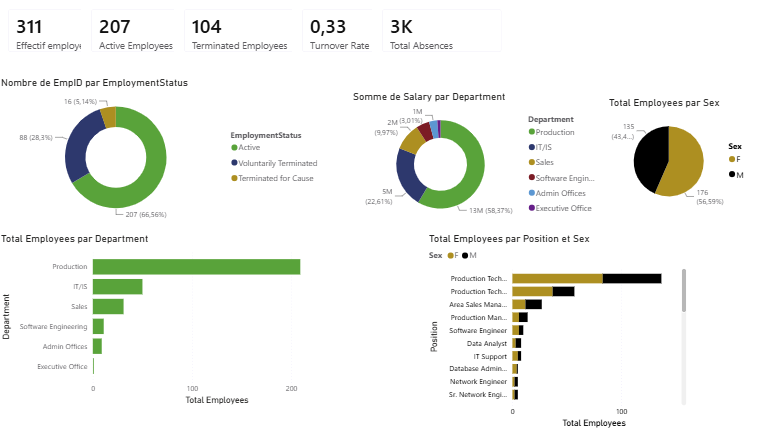

Layout of this report page (visuals, bound fields, positions):
{"tool":"powerbi","page":{"name":"Page 1","canvas":[1280,720],"ordinal":0},"visuals":[{"type":"cardVisual","fields":{"Data":["HRDataset.Effectif employe"]},"box":[0,0,185.6,105.8],"z":0},{"type":"cardVisual","fields":{"Data":["HRDataset.Active Employees"]},"box":[137.5,0,192.3,105.8],"z":1000},{"type":"cardVisual","fields":{"Data":["HRDataset.Terminated Employees"]},"box":[293.3,0,225,105.8],"z":2000},{"type":"cardVisual","fields":{"Data":["HRDataset.Turnover Rate"]},"box":[490.4,0,191.3,105.8],"z":3000},{"type":"donutChart","fields":{"Category":["HRDataset.EmploymentStatus"],"Y":["CountNonNull(HRDataset.EmpID)"]},"box":[0,128.9,546.7,252.2],"z":4000},{"type":"barChart","fields":{"Category":["HRDataset.Department"],"Y":["HRDataset.Total Employees"]},"box":[0,388.9,586.7,292.2],"z":5000},{"type":"donutChart","fields":{"Category":["HRDataset.Department"],"Y":["Sum(HRDataset.Salary)"]},"box":[586.7,152.2,426.7,228.9],"z":6000},{"type":"barChart","fields":{"Category":["HRDataset.Position"],"Y":["HRDataset.Total Employees"],"Series":["HRDataset.Sex"]},"box":[713.3,388.9,438.9,331.1],"z":7000},{"type":"pieChart","fields":{"Category":["HRDataset.Sex"],"Y":["HRDataset.Total Employees"]},"box":[1013.3,161.1,252.2,198.9],"z":8000},{"type":"cardVisual","fields":{"Data":["HRDataset.Total Absences"]},"box":[624,0,233.7,105.8],"z":9000}]}

Visuals, with their boxes in screenshot pixels (x1, y1, x2, y2), scaled from the page's 1280x720 canvas onto the 760x430 screenshot:
cardVisual - HRDataset.Effectif employe: (0,0,110,63)
cardVisual - HRDataset.Active Employees: (82,0,196,63)
cardVisual - HRDataset.Terminated Employees: (174,0,308,63)
cardVisual - HRDataset.Turnover Rate: (291,0,405,63)
donutChart - HRDataset.EmploymentStatus x CountNonNull(HRDataset.EmpID): (0,77,325,228)
barChart - HRDataset.Department x HRDataset.Total Employees: (0,232,348,407)
donutChart - HRDataset.Department x Sum(HRDataset.Salary): (348,91,602,228)
barChart - HRDataset.Position x HRDataset.Total Employees: (424,232,684,429)
pieChart - HRDataset.Sex x HRDataset.Total Employees: (602,96,751,215)
cardVisual - HRDataset.Total Absences: (370,0,509,63)
